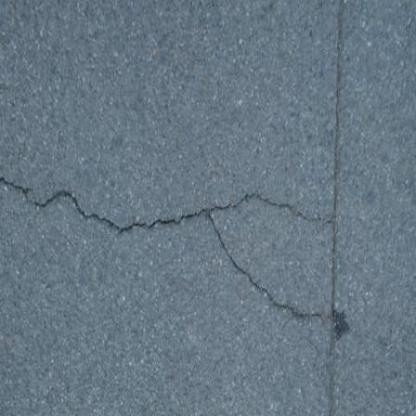Cracks: (2, 148, 344, 255), (186, 202, 355, 354), (320, 1, 357, 416)
